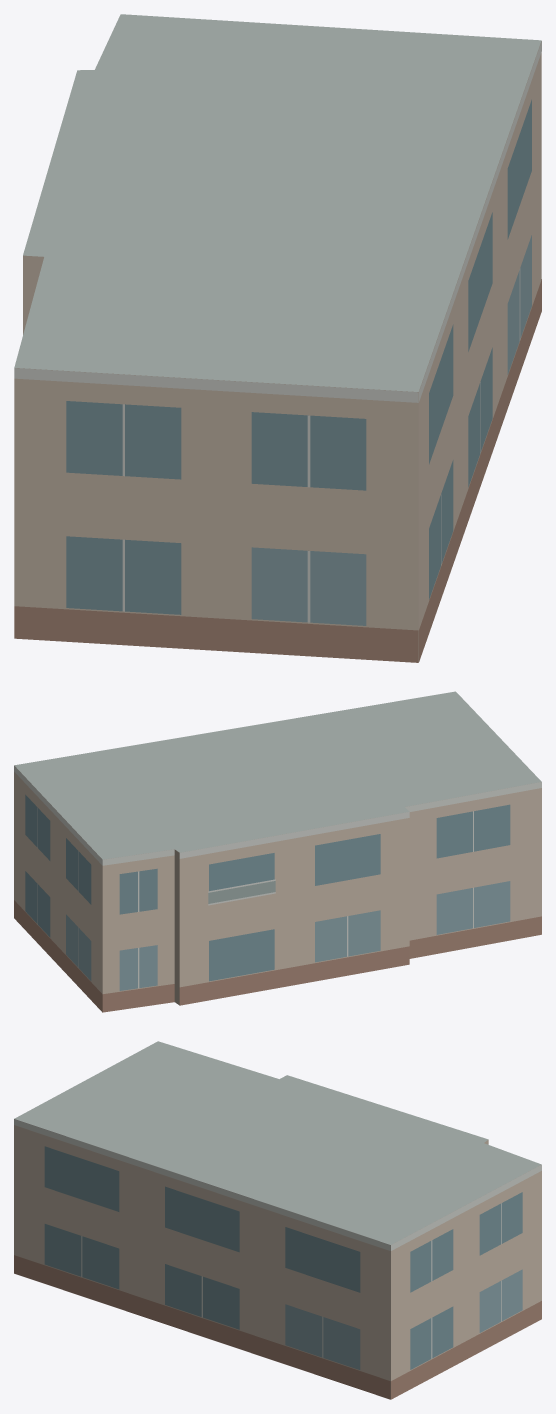
File: survey-upis-32885550.glb
3 views of the same model, one above another, from view 1: azimuth 30°, elevation 25°; view 2: azimuth 150°, elevation 25°; view 3: azimuth 270°, elevation 25° (orthographic). The views are drawn at different scales.
Parts seen in each view (by area): view 1: survey-upis-32885550.tmp; view 2: survey-upis-32885550.tmp; view 3: survey-upis-32885550.tmp.
Part boxes in pixels (left/top/right/bottom): survey-upis-32885550.tmp: left=14, top=14, right=541, bottom=662; survey-upis-32885550.tmp: left=14, top=691, right=541, bottom=1012; survey-upis-32885550.tmp: left=14, top=1041, right=541, bottom=1399.
Size of the model in its own units: 17.25 by 6.1 by 18.87.
